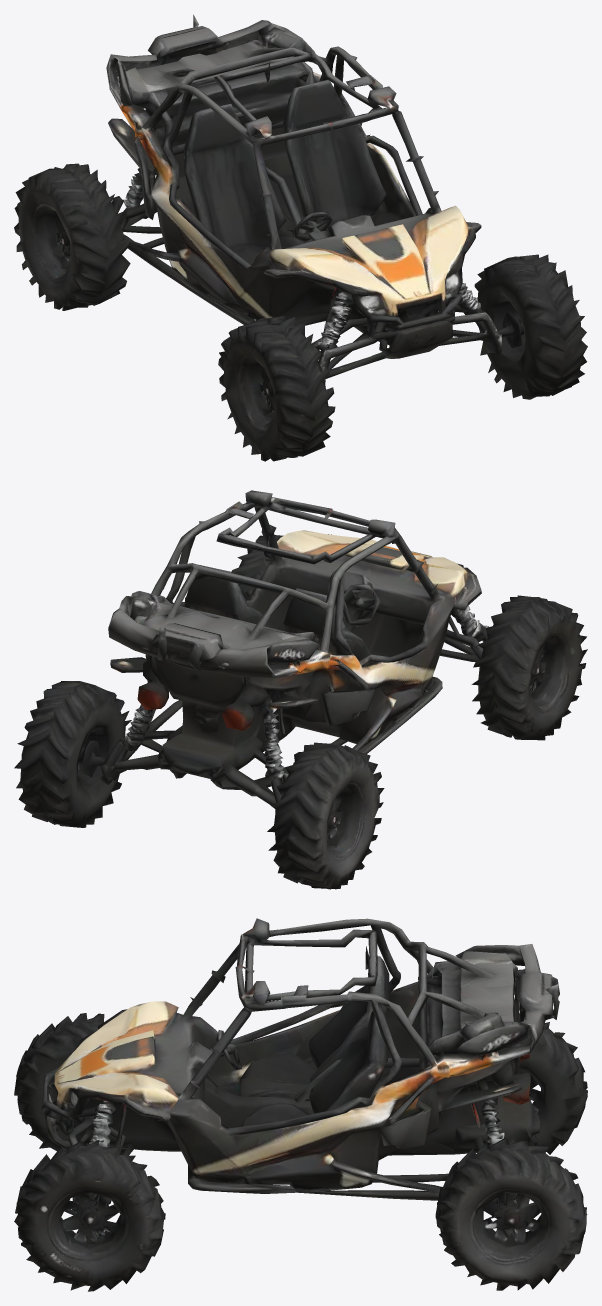
Rendered from off-roader.glb.
3 renders of one model, top to bottom at view 1: azimuth 30°, elevation 25°; view 2: azimuth 150°, elevation 25°; view 3: azimuth 270°, elevation 25°, orthographic. The views are drawn at different scales.
Parts seen in each view (by area): view 1: tripo_node_c36cafb4-e9f3-43eb-857b-9dafa2c1fa27; view 2: tripo_node_c36cafb4-e9f3-43eb-857b-9dafa2c1fa27; view 3: tripo_node_c36cafb4-e9f3-43eb-857b-9dafa2c1fa27.
Part boxes in pixels (box(x1,y1,x2,y2)): tripo_node_c36cafb4-e9f3-43eb-857b-9dafa2c1fa27: box(14, 14, 587, 461); tripo_node_c36cafb4-e9f3-43eb-857b-9dafa2c1fa27: box(14, 490, 587, 889); tripo_node_c36cafb4-e9f3-43eb-857b-9dafa2c1fa27: box(14, 918, 587, 1291).
Bounding box in the file's own units: 0.6349 × 0.5283 × 1.
Materials: 1 (1 with a texture image).
